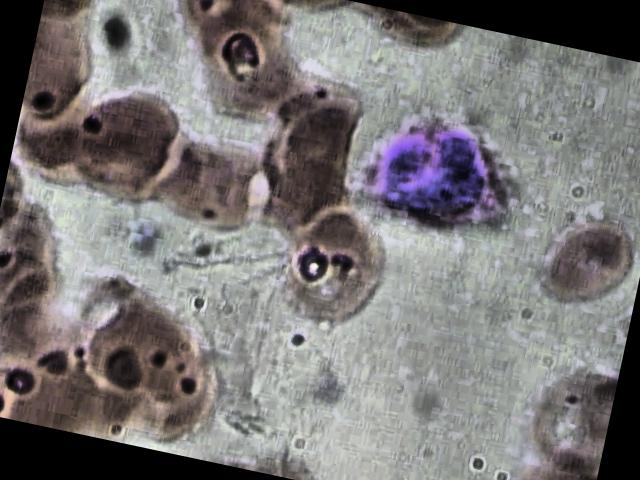Platelets: (307, 366, 353, 409), (122, 215, 168, 258)
RBC: (76, 272, 210, 416), (276, 195, 404, 342), (64, 72, 190, 218), (160, 123, 274, 242), (181, 0, 295, 115), (512, 358, 617, 474), (538, 212, 640, 322), (21, 8, 114, 122)
WBC: (342, 98, 533, 248)
